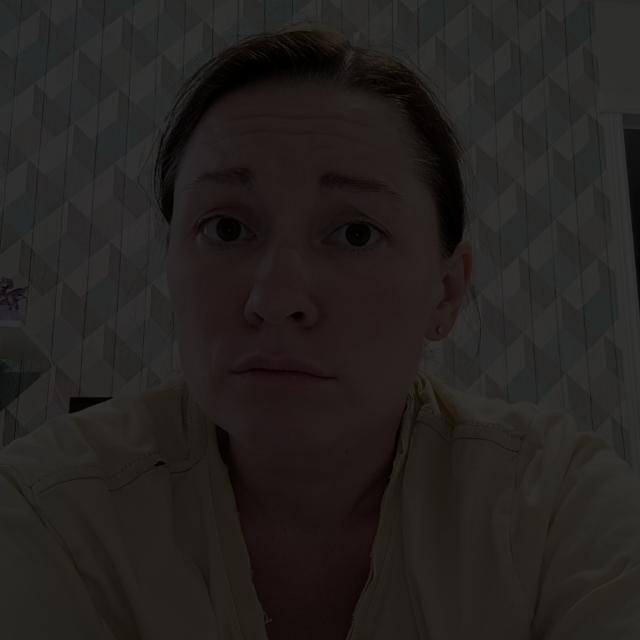Sad: (159, 95, 445, 445)
